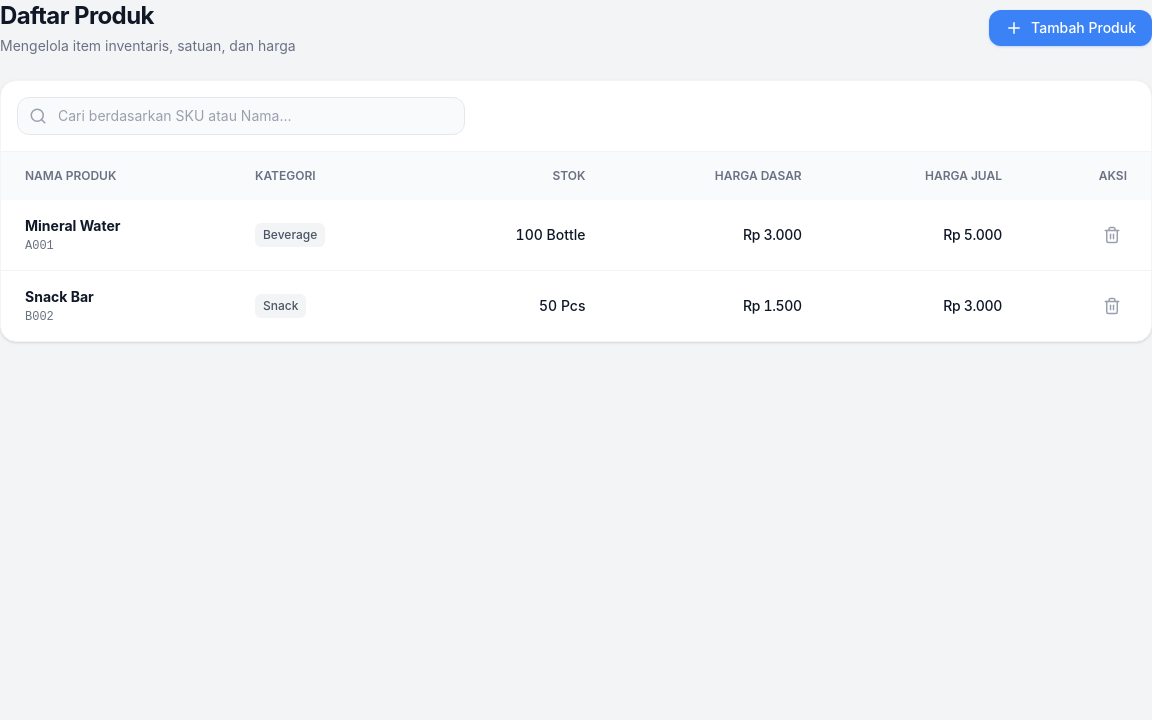
Test case: Catalog Page › opens delete confirmation and cancels
The image size is (1152, 720).
Check: the text "Mineral Water" is shown, box [25,217,120,234]
Click the button named "Hapus produk" in the row of "Mineral Water".
click(1112, 235)  # box [1097,220,1127,250]
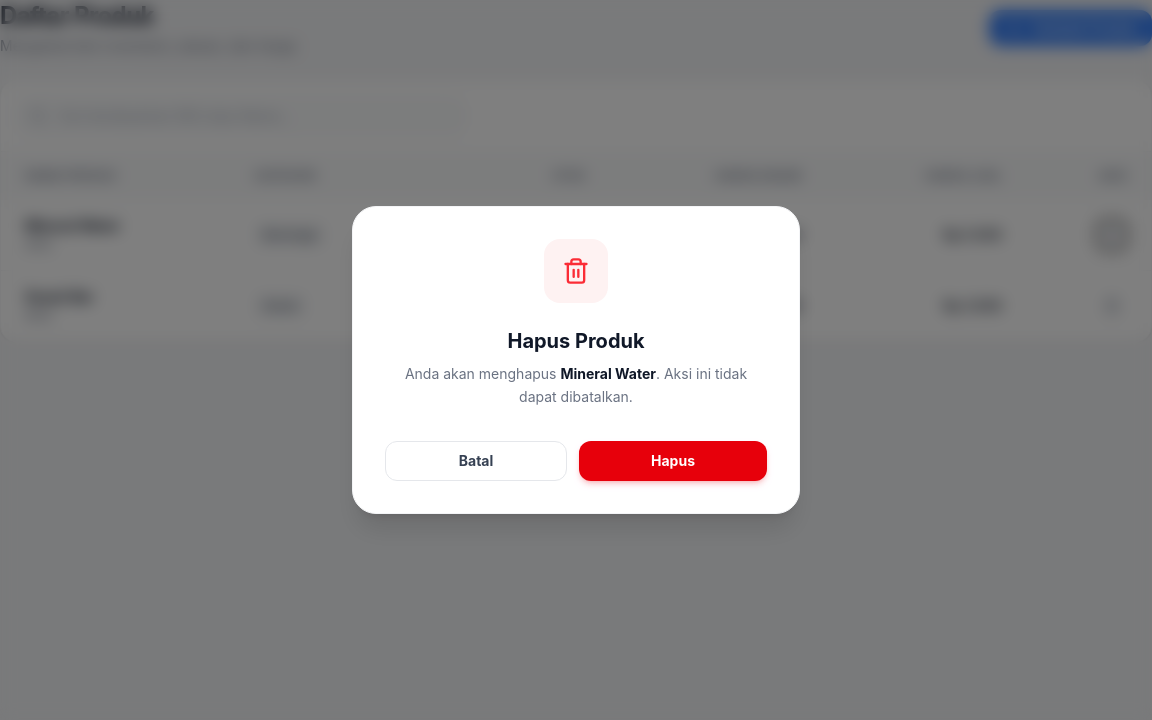
Check: the heading "Hapus Produk" is shown, box [508,329,645,353]
Note: Click cancel
Click the button "Batal".
click(476, 461)  # box [385,441,567,481]
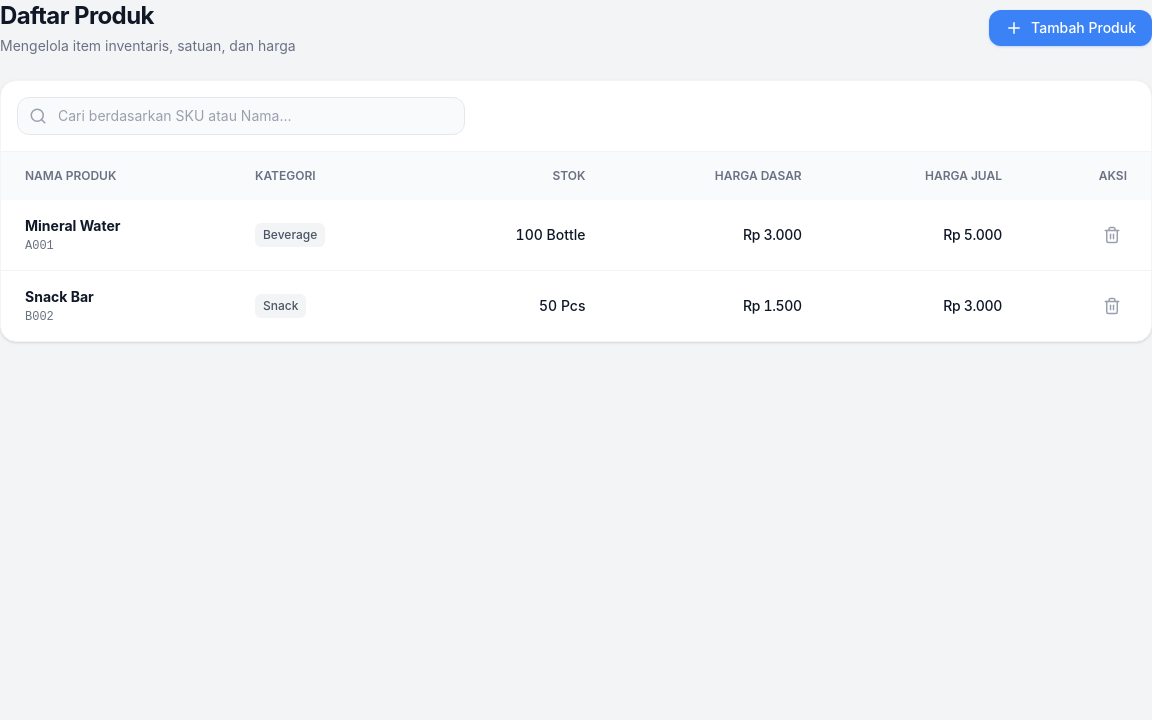
Check: the heading "Hapus Produk" is gone
